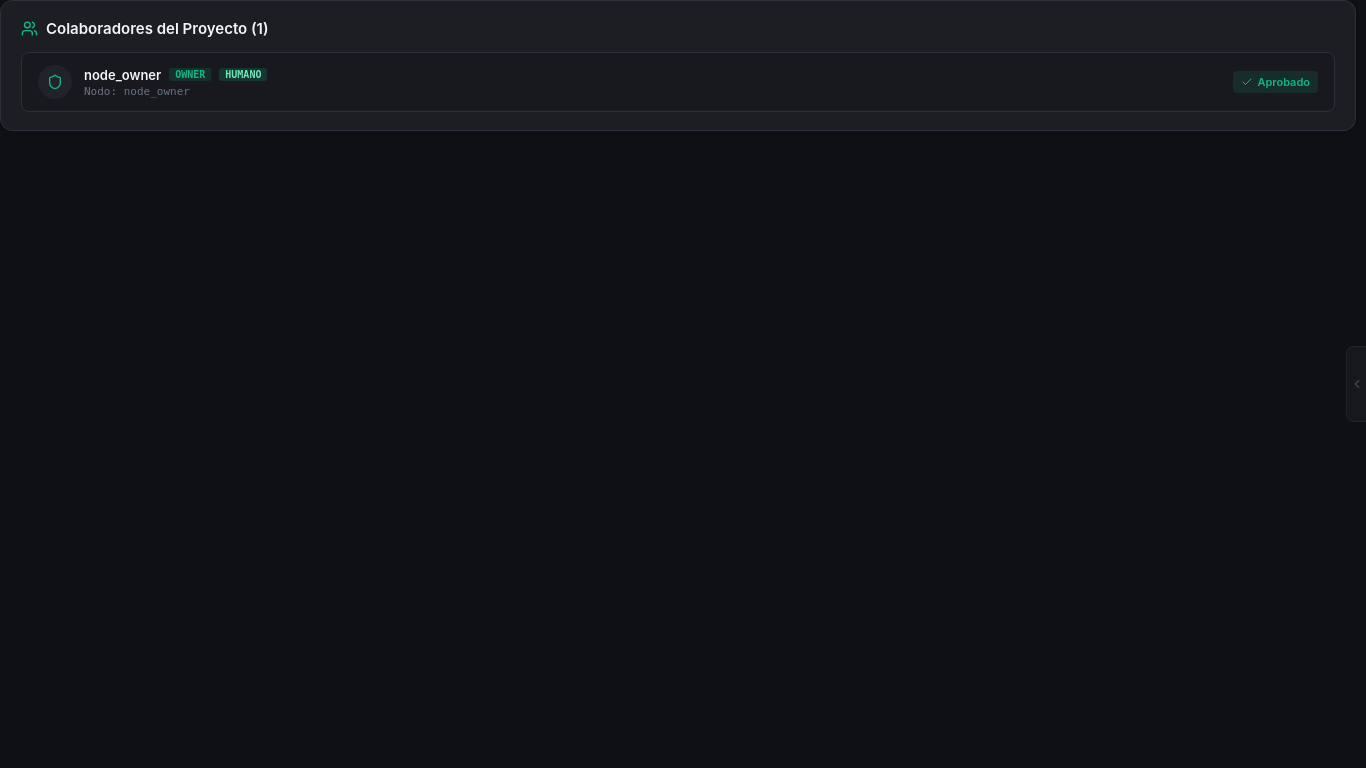
Test: CollaboratorsView - pegar código de solicitud (ingesta manual, nivel 2) › muestra el error del backend (p. ej. código de otro proyecto) sin refrescar como éxito
Click the button with test id "view-slider-tab". click: (1356, 384)
box: [1346,346,1365,422]
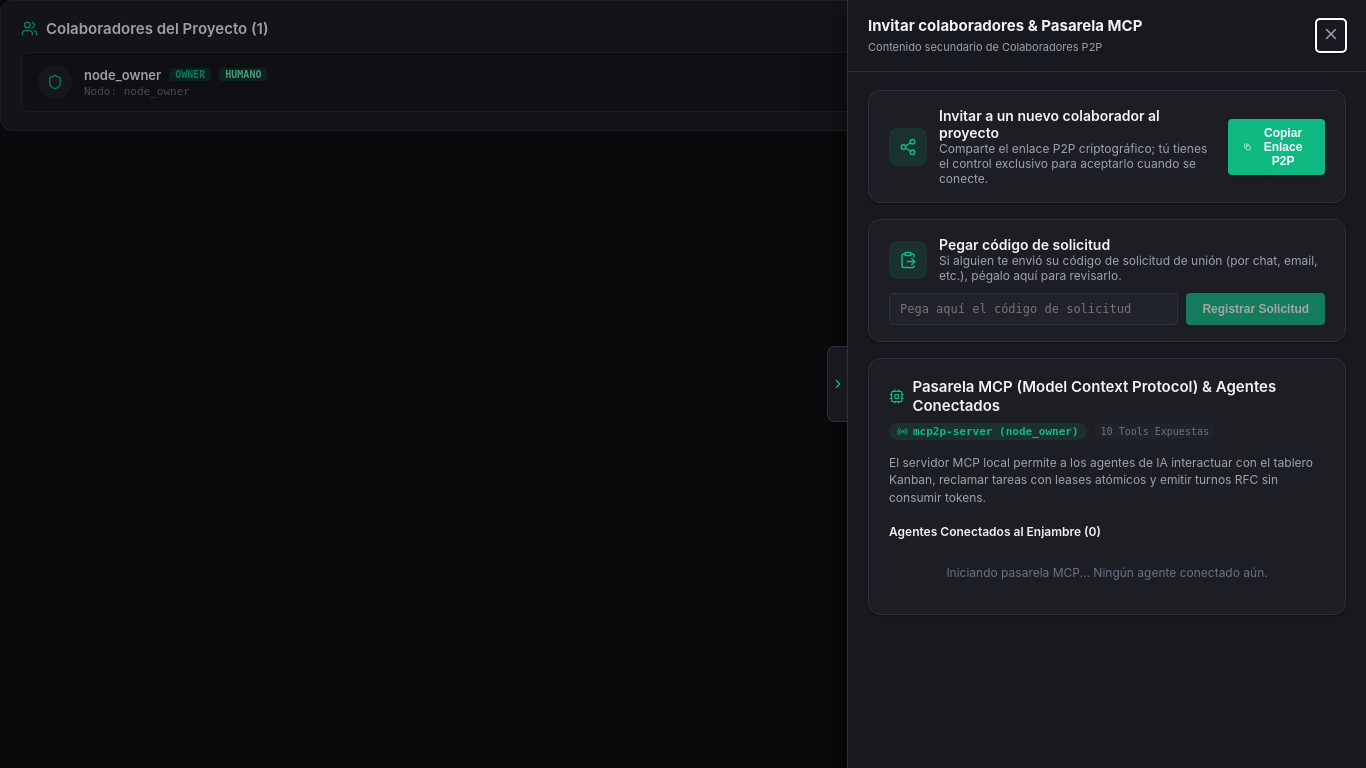
Type "req_code_other_project" into the field named "Código de solicitud de unión". click: (1034, 309)
box: [889,293,1178,325]
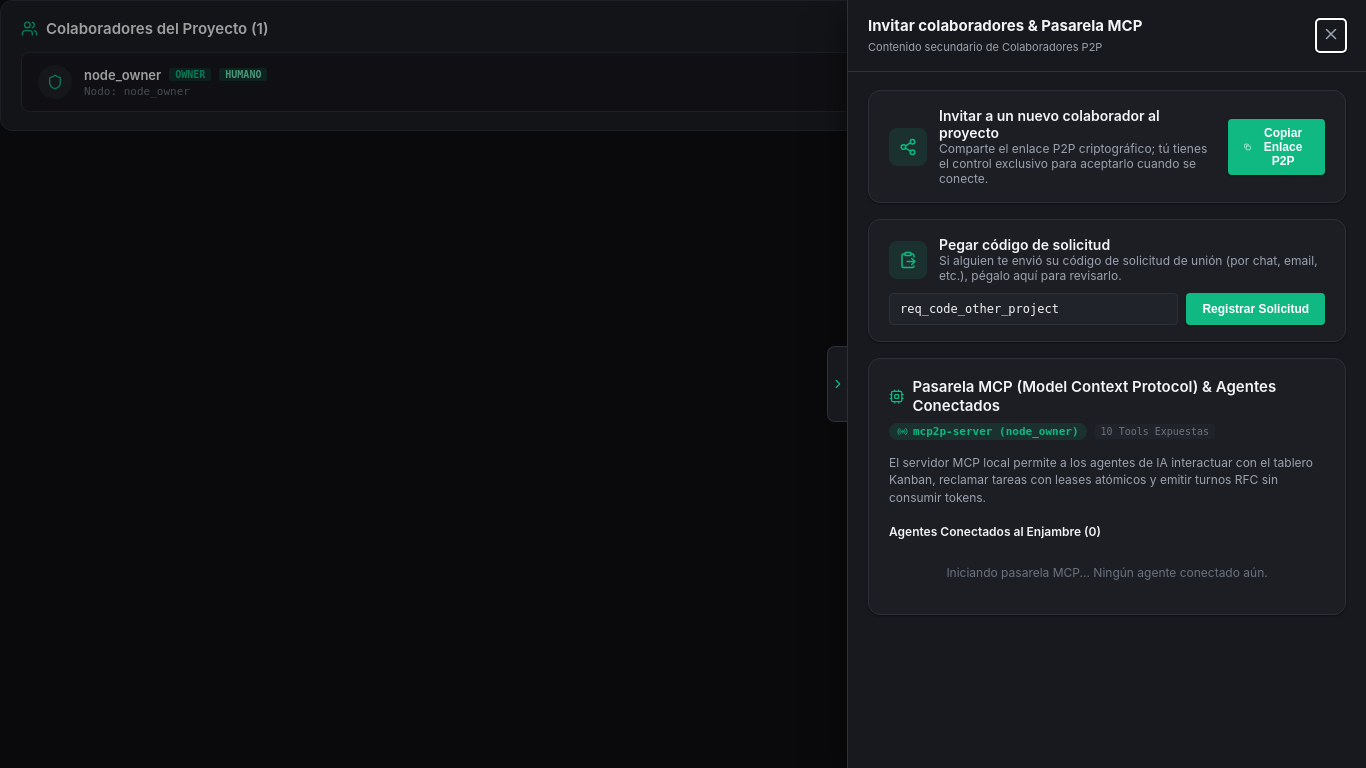
Click the button "Registrar Solicitud". click: (1256, 309)
box: [1186,293,1325,325]
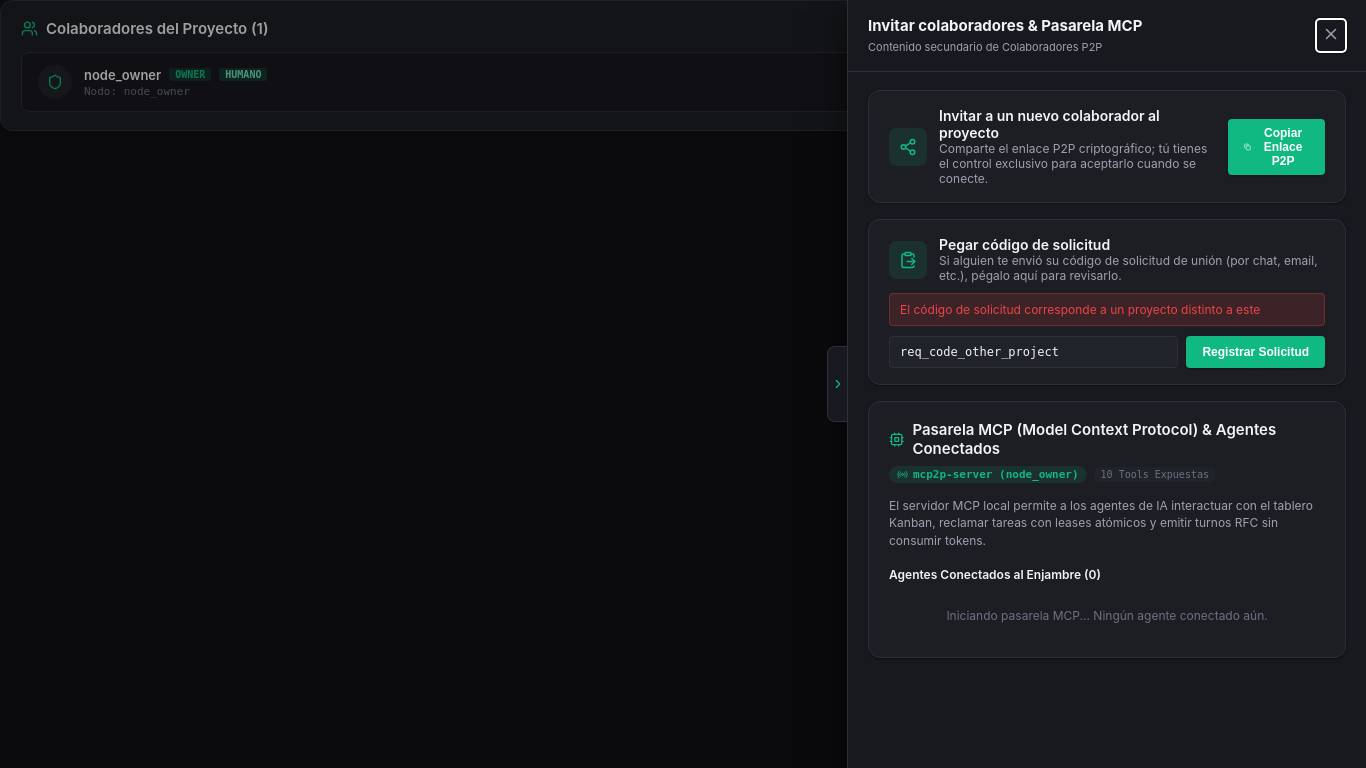
Now the message with test id "ingest-request-code-message" reads "El código de solicitud corresponde a un proyecto distinto a este", box [900,302,1260,317]
